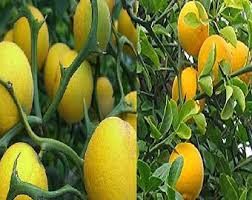orange: (167, 137, 206, 195)
